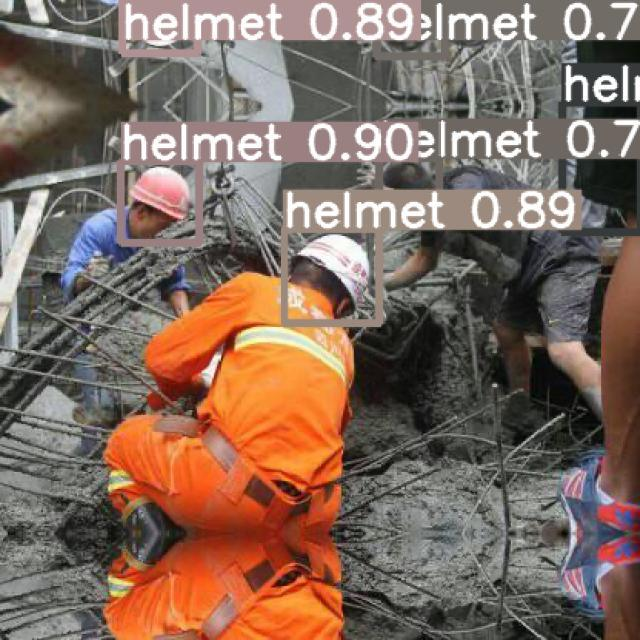Helmet: (293, 232, 375, 321), (128, 165, 190, 220)
